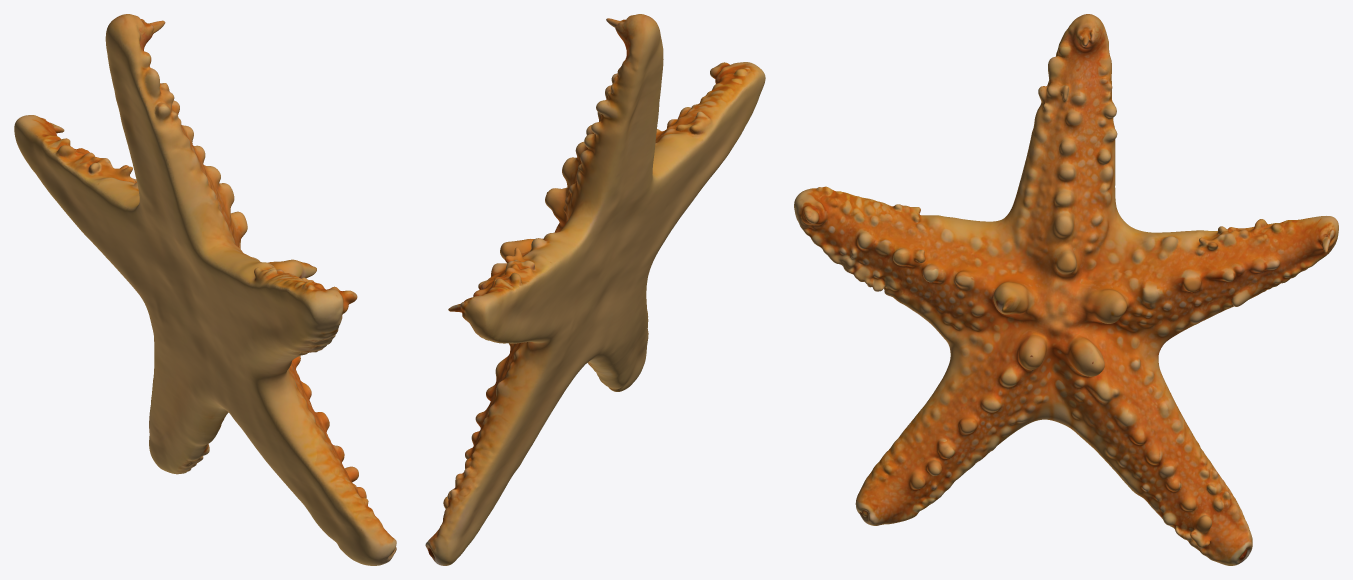
The model's file is star_small.glb.
The picture shows the model from 3 angles, left to right: view 1: azimuth 30°, elevation 25°; view 2: azimuth 150°, elevation 25°; view 3: azimuth 270°, elevation 25°; orthographic projection. The views are drawn at different scales.
Visible parts, largest first — view 1: tripo_node_38a1ed8b-987e-41f9-9a17-ec3a162c4eb3; view 2: tripo_node_38a1ed8b-987e-41f9-9a17-ec3a162c4eb3; view 3: tripo_node_38a1ed8b-987e-41f9-9a17-ec3a162c4eb3.
Boxes of the visible parts, <box> form: tripo_node_38a1ed8b-987e-41f9-9a17-ec3a162c4eb3: <box>14,14,396,565</box>; tripo_node_38a1ed8b-987e-41f9-9a17-ec3a162c4eb3: <box>425,14,765,565</box>; tripo_node_38a1ed8b-987e-41f9-9a17-ec3a162c4eb3: <box>794,14,1338,565</box>.
Size of the model in its own units: 0.3194 by 0.9999 by 1.
1 material, 1 textured.
